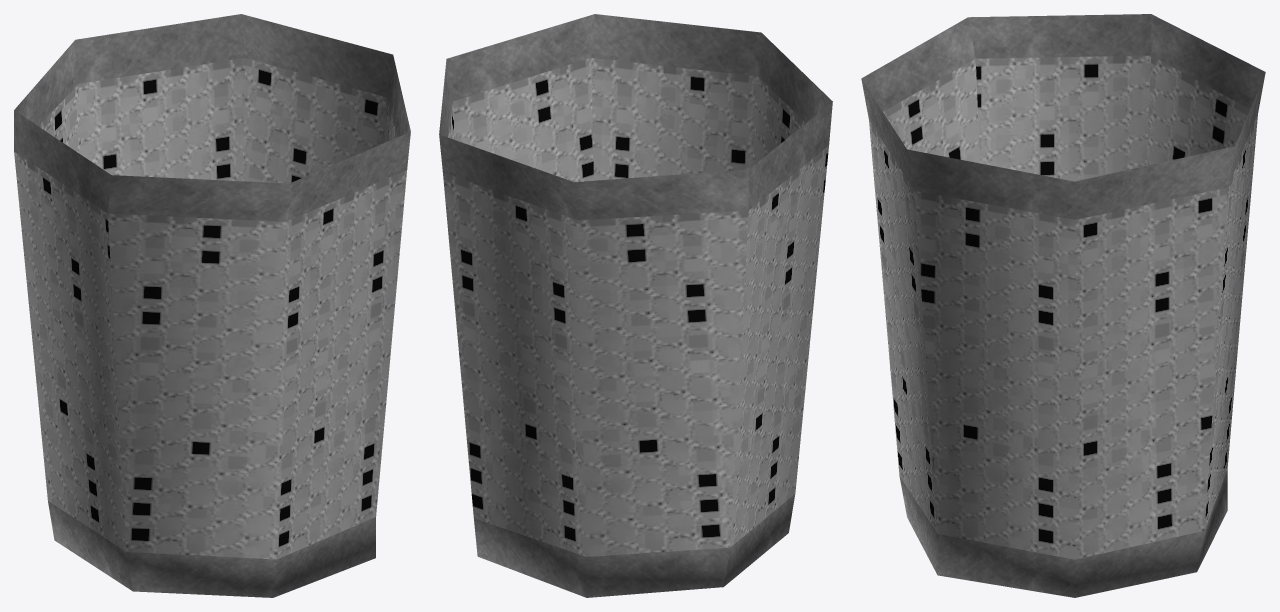
File: bin.glb
The picture shows the model from 3 angles, left to right: view 1: azimuth 30°, elevation 25°; view 2: azimuth 150°, elevation 25°; view 3: azimuth 270°, elevation 25°; orthographic projection.
Visible parts, largest first — view 1: Trash Cam; view 2: Trash Cam; view 3: Trash Cam.
Part boxes in pixels (<box>): Trash Cam: <box>14,14,410,597</box>; Trash Cam: <box>439,14,832,597</box>; Trash Cam: <box>861,14,1265,597</box>.
Size of the model in its own units: 0.3915 by 0.4744 by 0.3991.
Materials: 1 (1 with a texture image).
